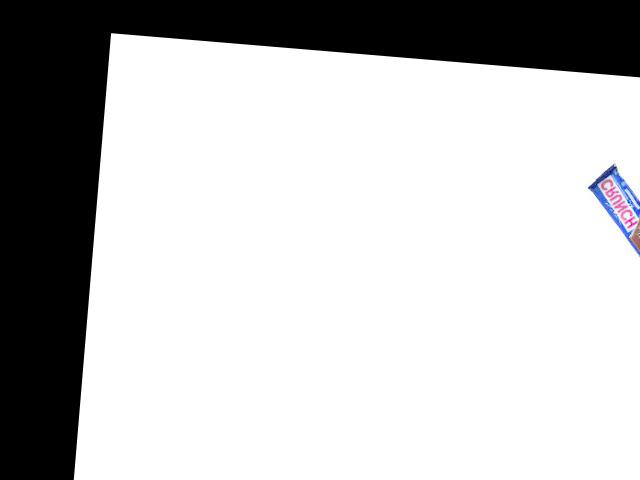chocolate: (581, 160, 640, 261)
